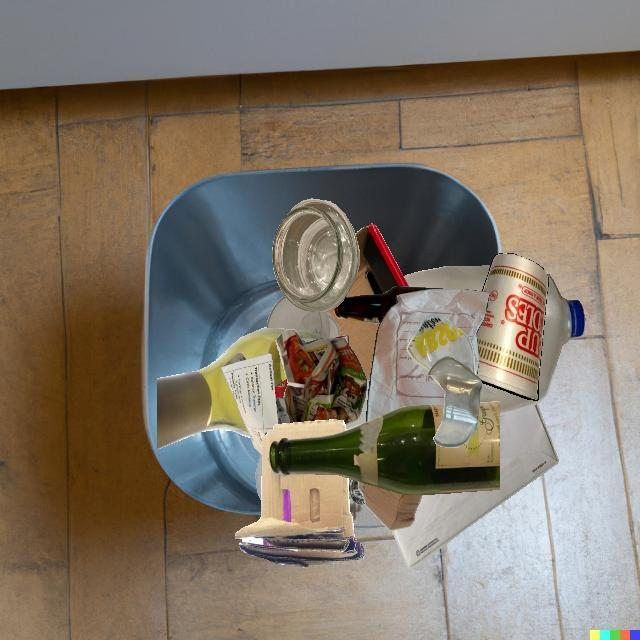cardboard: (235, 419, 363, 567), (262, 425, 353, 528), (346, 223, 409, 296), (328, 308, 380, 378), (358, 481, 423, 531), (350, 478, 386, 528)
glass: (269, 401, 500, 495), (157, 327, 321, 449), (272, 199, 359, 312), (427, 356, 482, 447), (407, 314, 475, 375), (334, 286, 442, 324), (267, 296, 340, 338), (366, 378, 370, 380)
paper: (392, 403, 558, 569), (366, 289, 489, 422), (275, 329, 367, 426), (221, 353, 278, 455), (275, 379, 288, 398), (333, 335, 349, 346)
plastic: (480, 274, 585, 415), (403, 265, 491, 292)
trash: (476, 253, 549, 400)
